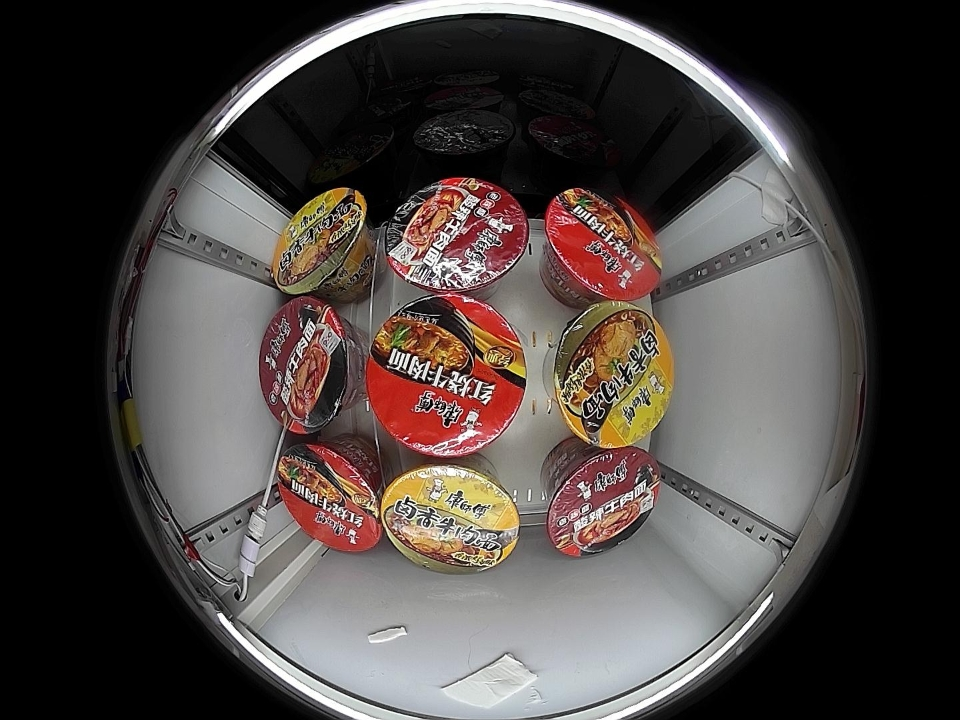hongshaoniurou: (365, 295, 528, 457), (544, 187, 662, 302), (275, 439, 383, 553)
luxiangniurou: (553, 302, 674, 449), (380, 461, 521, 573), (271, 188, 372, 296)
suanlaniurou: (383, 176, 529, 294), (259, 297, 359, 434), (547, 448, 662, 556)
